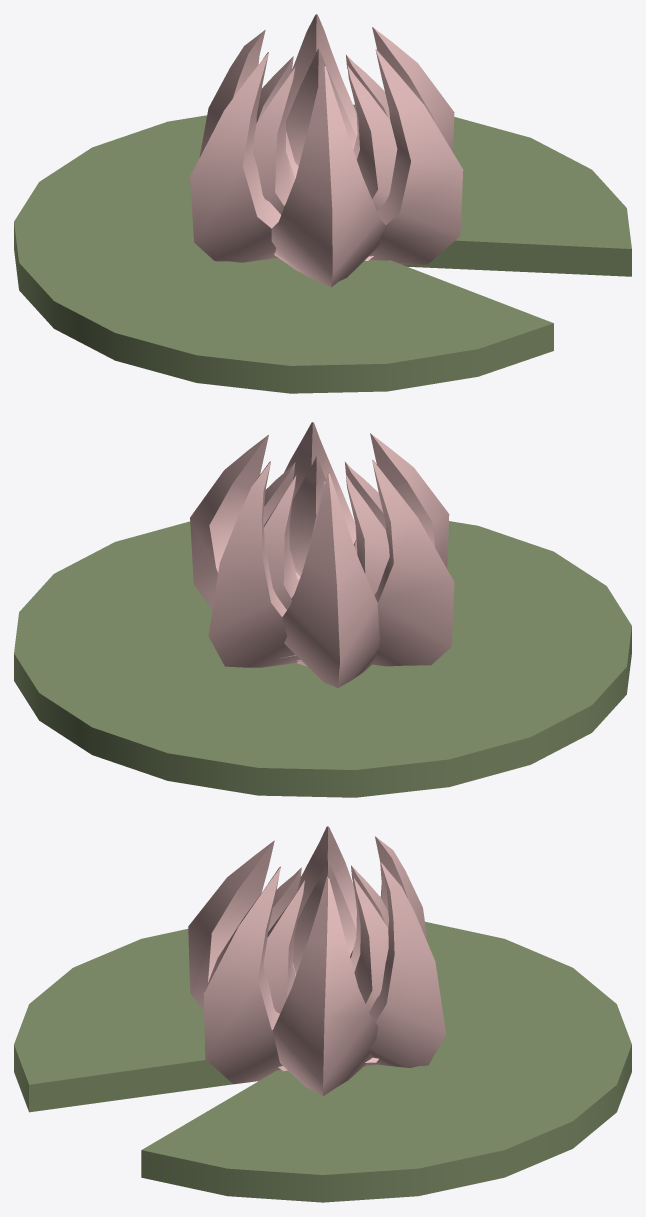
The model's file is lilypadAndFlower01.fbx.
3 views of the same model, one above another, from view 1: azimuth 30°, elevation 25°; view 2: azimuth 150°, elevation 25°; view 3: azimuth 270°, elevation 25° (orthographic).
Visible parts, largest first — view 1: lilypadAndFlower01; view 2: lilypadAndFlower01; view 3: lilypadAndFlower01.
Boxes of the visible parts, bbox=[...] form: lilypadAndFlower01: bbox=[14, 14, 631, 393]; lilypadAndFlower01: bbox=[14, 422, 631, 797]; lilypadAndFlower01: bbox=[14, 826, 631, 1202].
Bounding box in the file's own units: 120 × 47.47 × 120.
